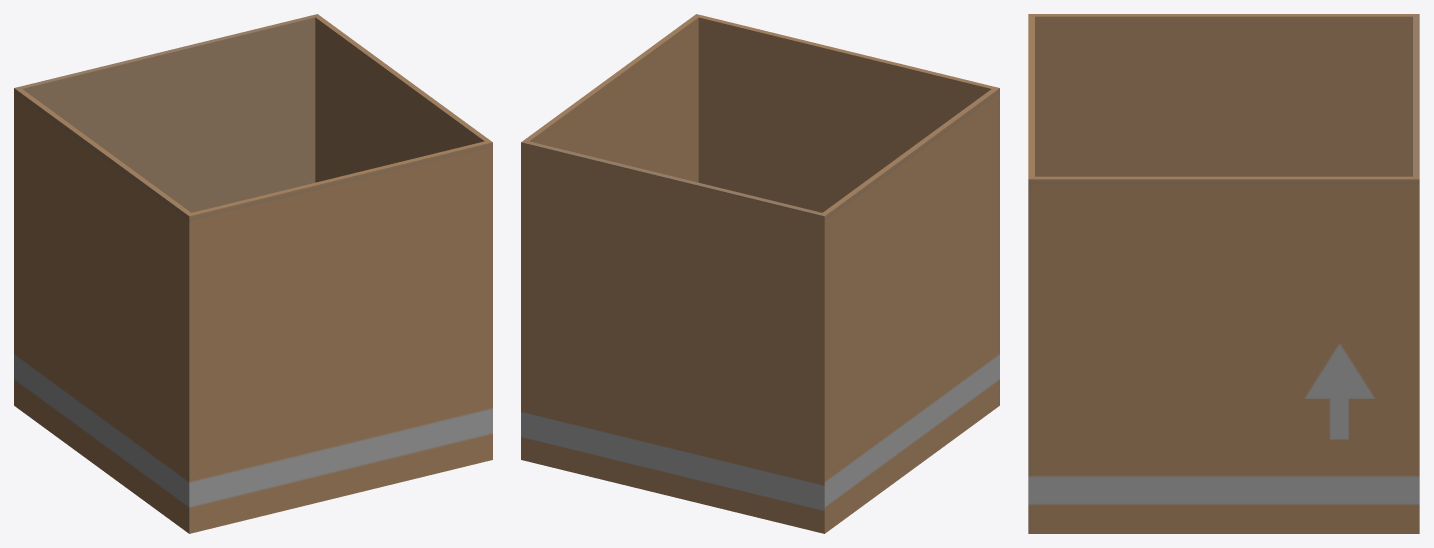
The model's file is sm_PackingBox_2.fbx.
The picture shows the model from 3 angles, left to right: view 1: azimuth 30°, elevation 25°; view 2: azimuth 150°, elevation 25°; view 3: azimuth 270°, elevation 25°; orthographic projection. The views are drawn at different scales.
Parts seen in each view (by area): view 1: pasted__pCube1; view 2: pasted__pCube1; view 3: pasted__pCube1.
Boxes of the visible parts, x1,y1,x2,y2 form: pasted__pCube1: [14, 14, 492, 533]; pasted__pCube1: [521, 14, 999, 533]; pasted__pCube1: [1028, 14, 1419, 533].
Size of the model in its own units: 200 by 200 by 200.
1 material, 1 textured.
